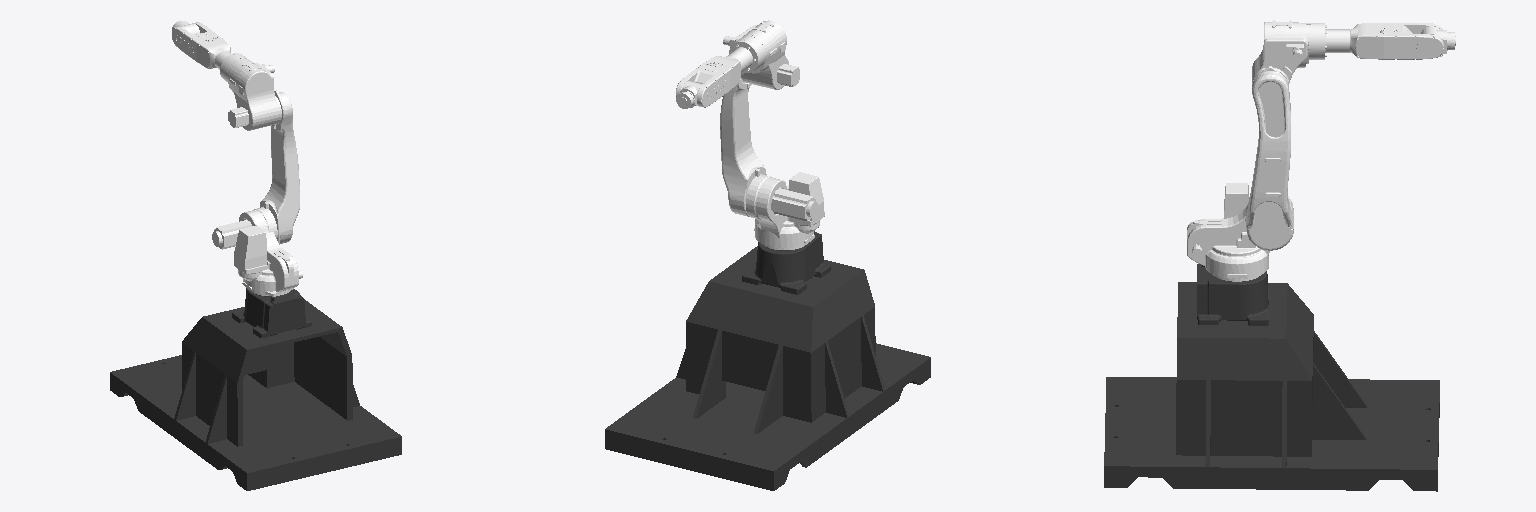
URDF robot description (hiwin_ra610_1476):
<?xml version="1.0" ?>
<!-- =================================================================================== -->
<!-- |    This document was autogenerated by xacro from ra610_1476.xacro               | -->
<!-- |    EDITING THIS FILE BY HAND IS NOT RECOMMENDED                                 | -->
<!-- =================================================================================== -->
<robot name="hiwin_ra610_1476">
  <!-- links: main serial chain -->
  <link name="base_link">
    <visual>
      <origin rpy="0 0 0" xyz="0 0 0"/>
      <geometry>
        <mesh filename="../meshes/visual/base_link.stl" scale="0.001 0.001 0.001"/>
      </geometry>
      <material name="Black">
        <color rgba="0.3 0.3 0.3 1.0"/>
      </material>
    </visual>
    <collision>
      <origin rpy="0 0 0" xyz="0 0 0"/>
      <geometry>
        <mesh filename="../meshes/collision/base_link.stl" scale="0.001 0.001 0.001"/>
      </geometry>
    </collision>
  </link>
  <link name="link_1">
    <visual>
      <origin rpy="0 0 0" xyz="0 0 0"/>
      <geometry>
        <mesh filename="../meshes/visual/link_1.stl" scale="0.001 0.001 0.001"/>
      </geometry>
      <material name="LightGrey">
        <color rgba="0.999 0.999 0.999 1.0"/>
      </material>
    </visual>
    <collision>
      <origin rpy="0 0 0" xyz="0 0 0"/>
      <geometry>
        <mesh filename="../meshes/collision/link_1.stl" scale="0.001 0.001 0.001"/>
      </geometry>
    </collision>
  </link>
  <link name="link_2">
    <visual>
      <origin rpy="0 0 0" xyz="0 0 0"/>
      <geometry>
        <mesh filename="../meshes/visual/link_2.stl" scale="0.001 0.001 0.001"/>
      </geometry>
      <material name="LightGrey">
        <color rgba="0.999 0.999 0.999 1.0"/>
      </material>
    </visual>
    <collision>
      <origin rpy="0 0 0" xyz="0 0 0"/>
      <geometry>
        <mesh filename="../meshes/collision/link_2.stl" scale="0.001 0.001 0.001"/>
      </geometry>
    </collision>
  </link>
  <link name="link_3">
    <visual>
      <origin rpy="0 0 0" xyz="0 0 0"/>
      <geometry>
        <mesh filename="../meshes/visual/link_3.stl" scale="0.001 0.001 0.001"/>
      </geometry>
      <material name="LightGrey">
        <color rgba="0.999 0.999 0.999 1.0"/>
      </material>
    </visual>
    <collision>
      <origin rpy="0 0 0" xyz="0 0 0"/>
      <geometry>
        <mesh filename="../meshes/collision/link_3.stl" scale="0.001 0.001 0.001"/>
      </geometry>
    </collision>
  </link>
  <link name="link_4">
    <visual>
      <origin rpy="0 0 0" xyz="0 0 0"/>
      <geometry>
        <mesh filename="../meshes/visual/link_4.stl" scale="0.001 0.001 0.001"/>
      </geometry>
      <material name="LightGrey">
        <color rgba="0.999 0.999 0.999 1.0"/>
      </material>
    </visual>
    <collision>
      <origin rpy="0 0 0" xyz="0 0 0"/>
      <geometry>
        <mesh filename="../meshes/collision/link_4.stl" scale="0.001 0.001 0.001"/>
      </geometry>
    </collision>
  </link>
  <link name="link_5">
    <visual>
      <origin rpy="1.5707963267948966 0 0" xyz="0 0 0"/>
      <geometry>
        <mesh filename="../meshes/visual/link_5.stl" scale="0.001 0.001 0.001"/>
      </geometry>
      <material name="LightGrey">
        <color rgba="0.999 0.999 0.999 1.0"/>
      </material>
    </visual>
    <collision>
      <origin rpy="1.5707963267948966 0 0" xyz="0 0 0"/>
      <geometry>
        <mesh filename="../meshes/collision/link_5.stl" scale="0.001 0.001 0.001"/>
      </geometry>
    </collision>
  </link>
  <link name="link_6">
    <visual>
      <origin rpy="1.5707963267948966 0 0" xyz="0 0 0"/>
      <geometry>
        <mesh filename="../meshes/visual/link_6.stl" scale="0.001 0.001 0.001"/>
      </geometry>
      <material name="LightGrey">
        <color rgba="0.999 0.999 0.999 1.0"/>
      </material>
    </visual>
    <collision>
      <origin rpy=" 1.5707963267948966 0 0" xyz="0 0 0"/>
      <geometry>
        <mesh filename="../meshes/collision/link_6.stl" scale="0.001 0.001 0.001"/>
      </geometry>
    </collision>
  </link>
  <!-- joints: main serial chain -->
  <joint name="joint_1" type="revolute">
    <origin rpy="0.0 0.0 0.0" xyz="0.0 0.0 0.2085"/>
    <parent link="base_link"/>
    <child link="link_1"/>
    <axis xyz="0 0 1"/>
    <limit effort="0" lower="-2.9671" upper="2.9671" velocity="3.351"/>
  </joint>
  <joint name="joint_2" type="revolute">
    <origin rpy="0.0 0.0 0.0" xyz="0.000 0.140 0.240"/>
    <parent link="link_1"/>
    <child link="link_2"/>
    <axis xyz="1 0 0"/>
    <limit effort="0" lower="-2.6180" upper="1.6581" velocity="3.595"/>
  </joint>
  <joint name="joint_3" type="revolute">
    <origin rpy="0.0 0.0 0.0" xyz="0.0 0.0 0.64"/>
    <parent link="link_2"/>
    <child link="link_3"/>
    <axis xyz="1 0 0"/>
    <limit effort="0" lower="-1.4835" upper="3.2289" velocity="3.822"/>
  </joint>
  <joint name="joint_4" type="revolute">
    <origin rpy="0.0 0.0 0.0" xyz="0.0 0.1495 0.16"/>
    <parent link="link_3"/>
    <child link="link_4"/>
    <axis xyz="0 1 0"/>
    <limit effort="0" lower="-3.3161" upper="3.3161" velocity="7.854"/>
  </joint>
  <joint name="joint_5" type="revolute">
    <origin rpy="0.0 0.0 0.0" xyz="0.0 0.5285 0.0"/>
    <parent link="link_4"/>
    <child link="link_5"/>
    <axis xyz="1 0 0"/>
    <limit effort="0" lower="-2.3562" upper="2.3562" velocity="7.854"/>
  </joint>
  <joint name="joint_6" type="revolute">
    <origin rpy="0.0 0.0 0.0" xyz="0.0 0.0 0.0"/>
    <parent link="link_5"/>
    <child link="link_6"/>
    <axis xyz="0 1 0"/>
    <limit effort="0" lower="-6.2832" upper="6.2832" velocity="12.566"/>
  </joint>
  <!-- ROS-Industrial 'base' frame: base_link to HIWIN World Coordinates transform -->
  <link name="base"/>
  <joint name="base_link-base" type="fixed">
    <origin rpy="0 0 0" xyz="0.000076 0.003189 0.375960"/>
    <parent link="base_link"/>
    <child link="base"/>
  </joint>
  <!-- ROS-Industrial 'flange' frame: attachment point for EEF models -->
  <link name="flange"/>
  <joint name="joint_6-flange" type="fixed">
    <origin rpy="0 0 0" xyz="0 0.016 0"/>
    <parent link="link_6"/>
    <child link="flange"/>
  </joint>
  <!-- ROS-Industrial 'tool0' frame: all-zeros tool frame -->
  <link name="tool0"/>
  <joint name="link_6-tool0" type="fixed">
    <origin rpy="0.0 -1.5707963267948966 -1.5707963267948966" xyz="0 0.020 0.0"/>
    <parent link="link_6"/>
    <child link="tool0"/>
  </joint>
</robot>

--- Render facts (derived) ---
The picture shows the robot from 3 angles, left to right: view 1: azimuth 30°, elevation 25°; view 2: azimuth 150°, elevation 25°; view 3: azimuth 270°, elevation 25°; orthographic projection.
Robot: hiwin_ra610_1476 — 10 links, 9 joints (6 revolute, 3 fixed); root link base_link; default pose: all joints at 0.
Links seen in each view (by area): view 1: base_link, link_1, link_2, link_3, link_4; view 2: base_link, link_1, link_2, link_4, link_3; view 3: base_link, link_2, link_1, link_4, link_3.
Link boxes in pixels (<box>): base_link: <box>110,288,401,490</box>; link_1: <box>212,207,302,296</box>; link_2: <box>260,90,299,244</box>; link_3: <box>227,58,281,130</box>; link_4: <box>172,22,248,81</box>; base_link: <box>605,231,930,490</box>; link_1: <box>746,172,824,249</box>; link_2: <box>720,78,766,216</box>; link_4: <box>676,36,765,107</box>; link_3: <box>723,20,799,89</box>; base_link: <box>1104,264,1439,491</box>; link_2: <box>1246,66,1293,250</box>; link_1: <box>1187,183,1293,281</box>; link_4: <box>1309,23,1443,59</box>; link_3: <box>1252,20,1308,84</box>.
Bounding box of the posed robot: 0.9053 × 1.48 × 1.95 m (x, y, z).
7 mesh visuals loaded from 7 distinct referenced files (7 binary STL).
